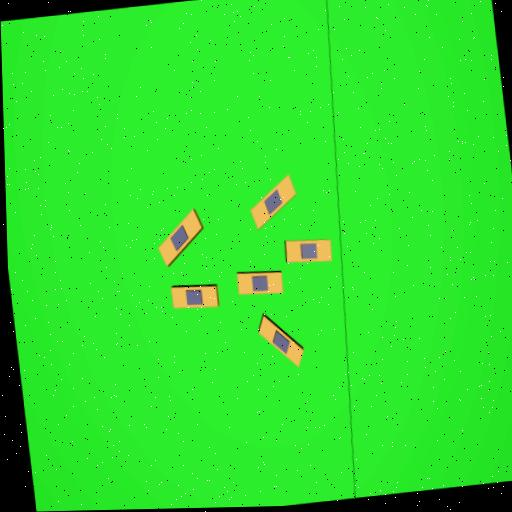objects: (244, 174, 302, 230), (252, 315, 310, 369), (153, 209, 207, 266), (171, 285, 219, 309), (285, 239, 333, 262), (236, 271, 284, 294)
